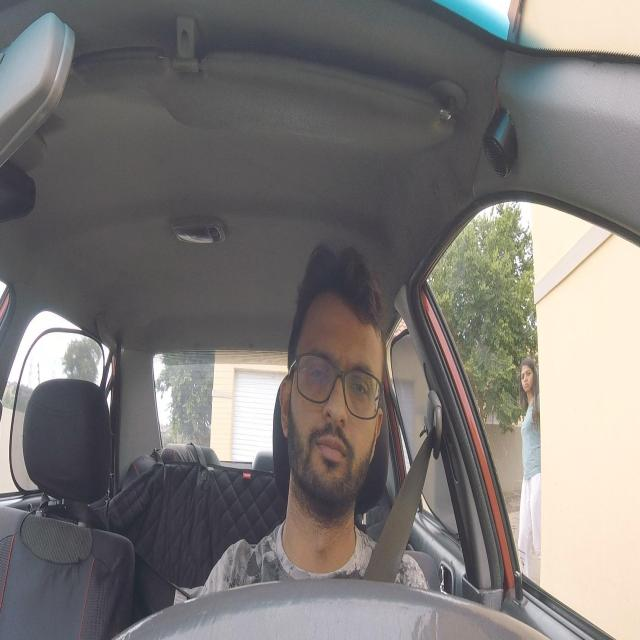open: (344, 354, 379, 420), (301, 344, 334, 404)
